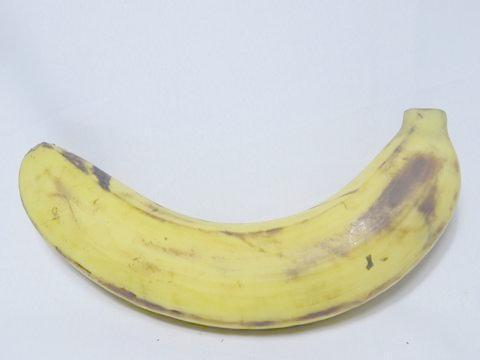overripe: (9, 84, 468, 346)
